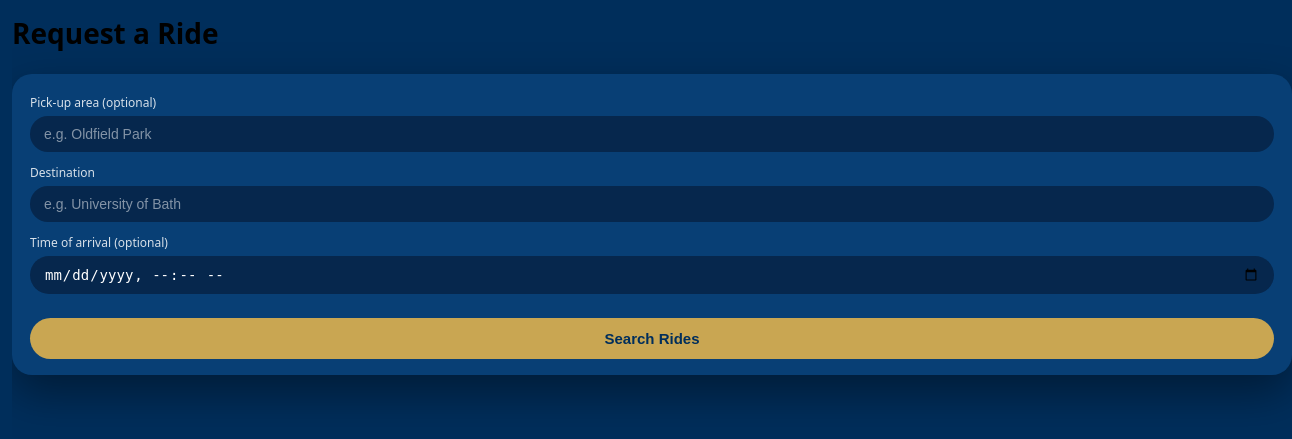
RequestRidePage › shows an auth error before searching when no token is available
Click the button "Search Rides" at (652, 338), box [30, 318, 1274, 359]
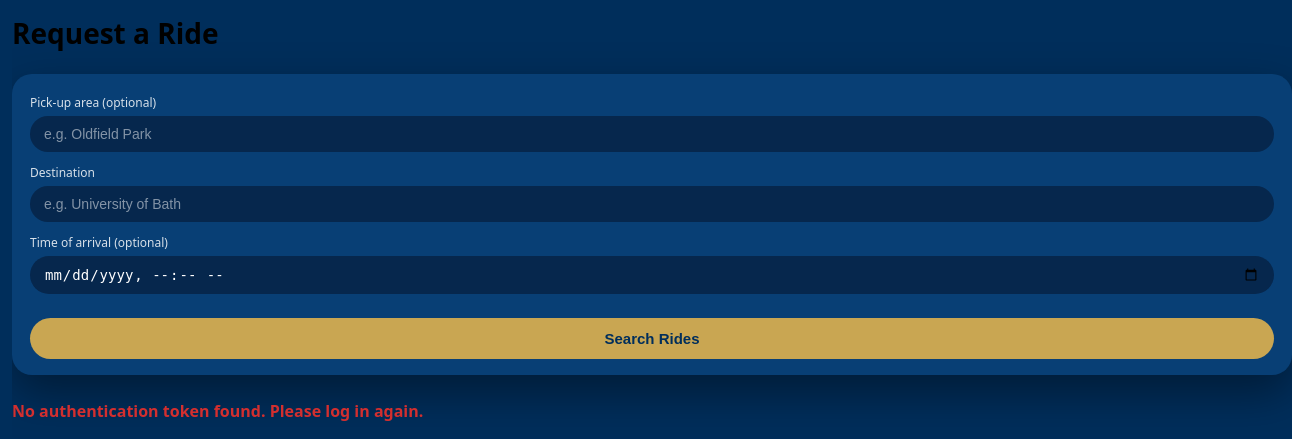
Result: the text "No authentication token found. Please log in again." is shown at [12, 400, 423, 422]
